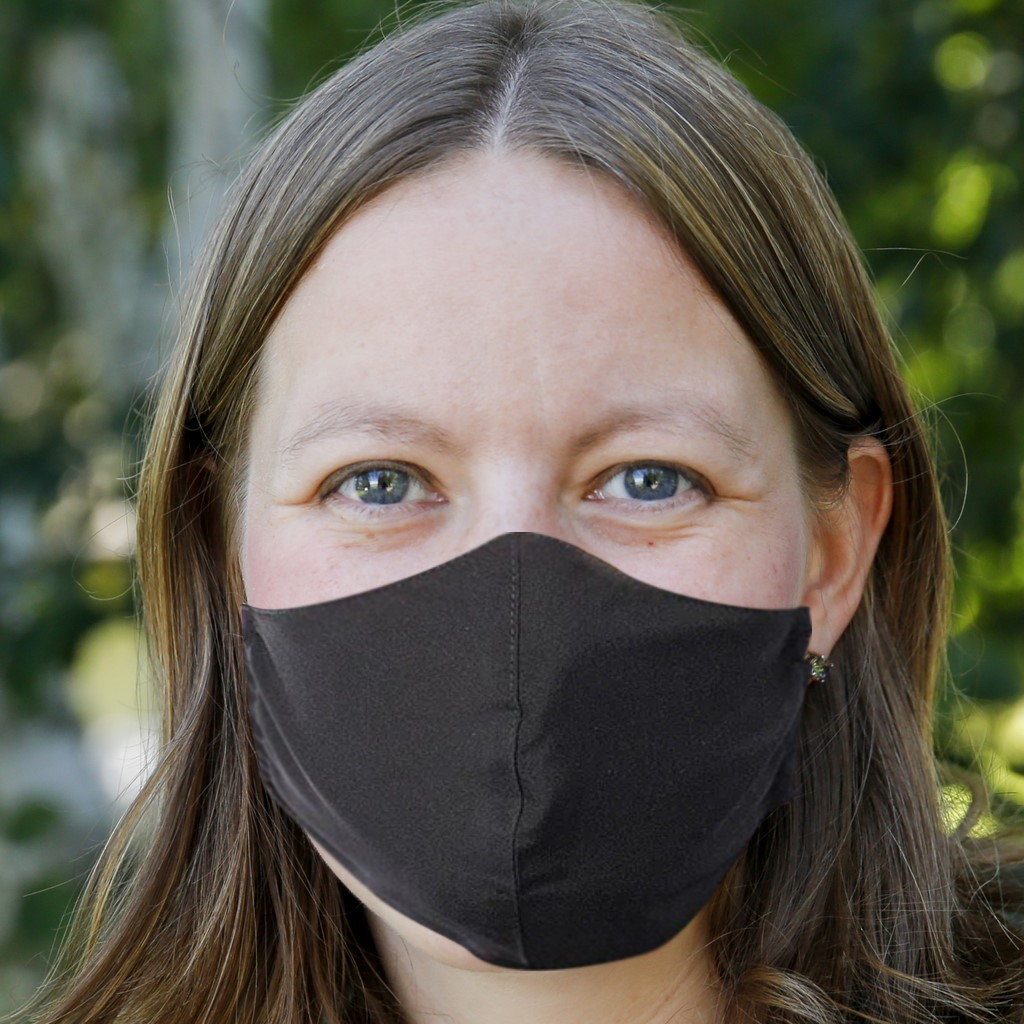con_mascara: (230, 173, 834, 962)
